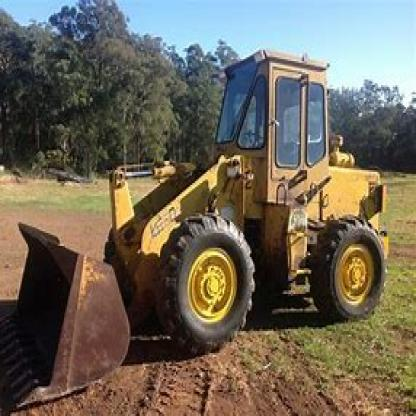bull_dozer/loader/grader: (5, 43, 394, 403)
